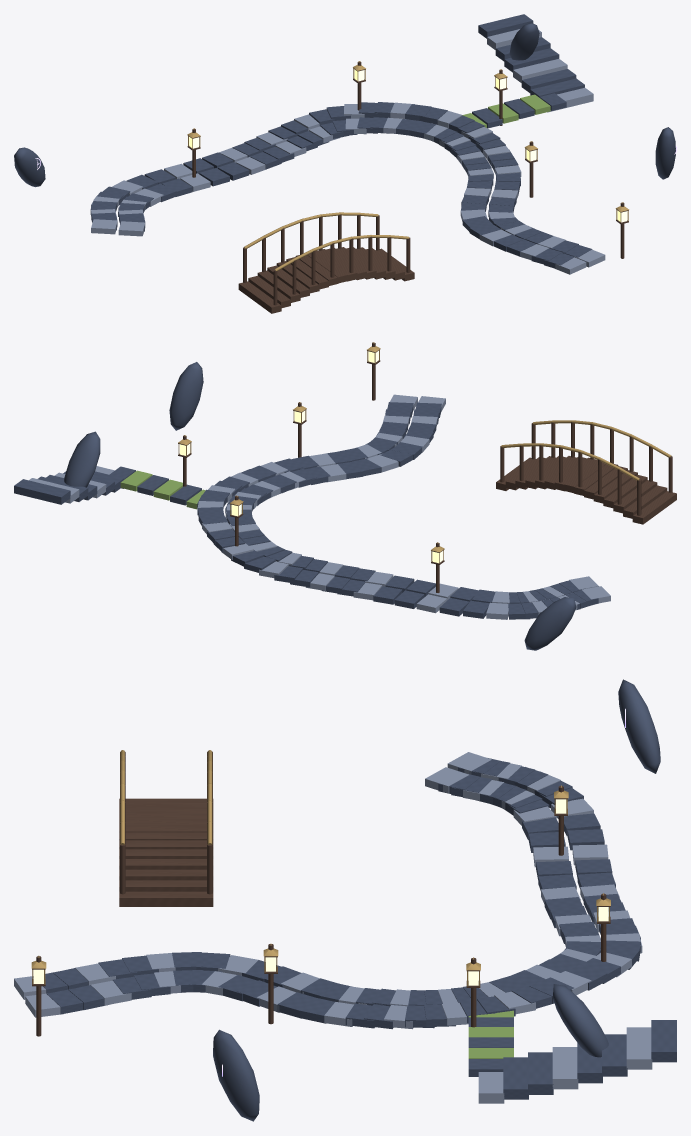
Rendered from forest-decorations.glb.
3 renders of one model, top to bottom at view 1: azimuth 30°, elevation 25°; view 2: azimuth 150°, elevation 25°; view 3: azimuth 270°, elevation 25°, orthographic. The views are drawn at different scales.
Visible parts, largest first — view 1: ForestPathways_stone, ForestPathways_edge, ForestPathways_wood, ForestPathways_gold, ForestPathways_moss, ForestPathways_flame; view 2: ForestPathways_stone, ForestPathways_edge, ForestPathways_wood, ForestPathways_gold, ForestPathways_moss, ForestPathways_flame; view 3: ForestPathways_stone, ForestPathways_edge, ForestPathways_wood, ForestPathways_gold, ForestPathways_moss, ForestPathways_flame.
Part boxes in pixels (box(x1,y1,x2,y2)): ForestPathways_stone: box(14, 14, 675, 268); ForestPathways_edge: box(91, 29, 605, 274); ForestPathways_wood: box(187, 61, 628, 313); ForestPathways_gold: box(187, 61, 629, 270); ForestPathways_moss: box(462, 94, 550, 127); ForestPathways_flame: box(189, 69, 627, 222); ForestPathways_stone: box(14, 362, 598, 650); ForestPathways_edge: box(29, 394, 610, 619); ForestPathways_wood: box(178, 343, 676, 592); ForestPathways_gold: box(178, 342, 671, 563); ForestPathways_moss: box(120, 470, 205, 509); ForestPathways_flame: box(180, 351, 442, 563); ForestPathways_stone: box(33, 679, 676, 1121); ForestPathways_edge: box(14, 752, 652, 1103); ForestPathways_wood: box(32, 751, 610, 1036); ForestPathways_gold: box(31, 750, 610, 986); ForestPathways_moss: box(468, 1010, 513, 1058); ForestPathways_flame: box(33, 799, 608, 985).
Bounding box in the file's own units: 10.55 × 1.59 × 8.06.
7 materials, 2 textured.
